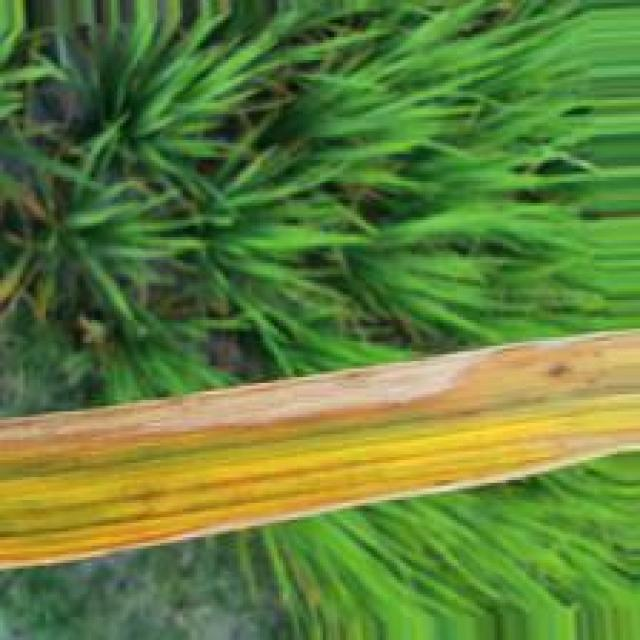Bacterial_Leaf_Blight: (0, 322, 640, 570)
